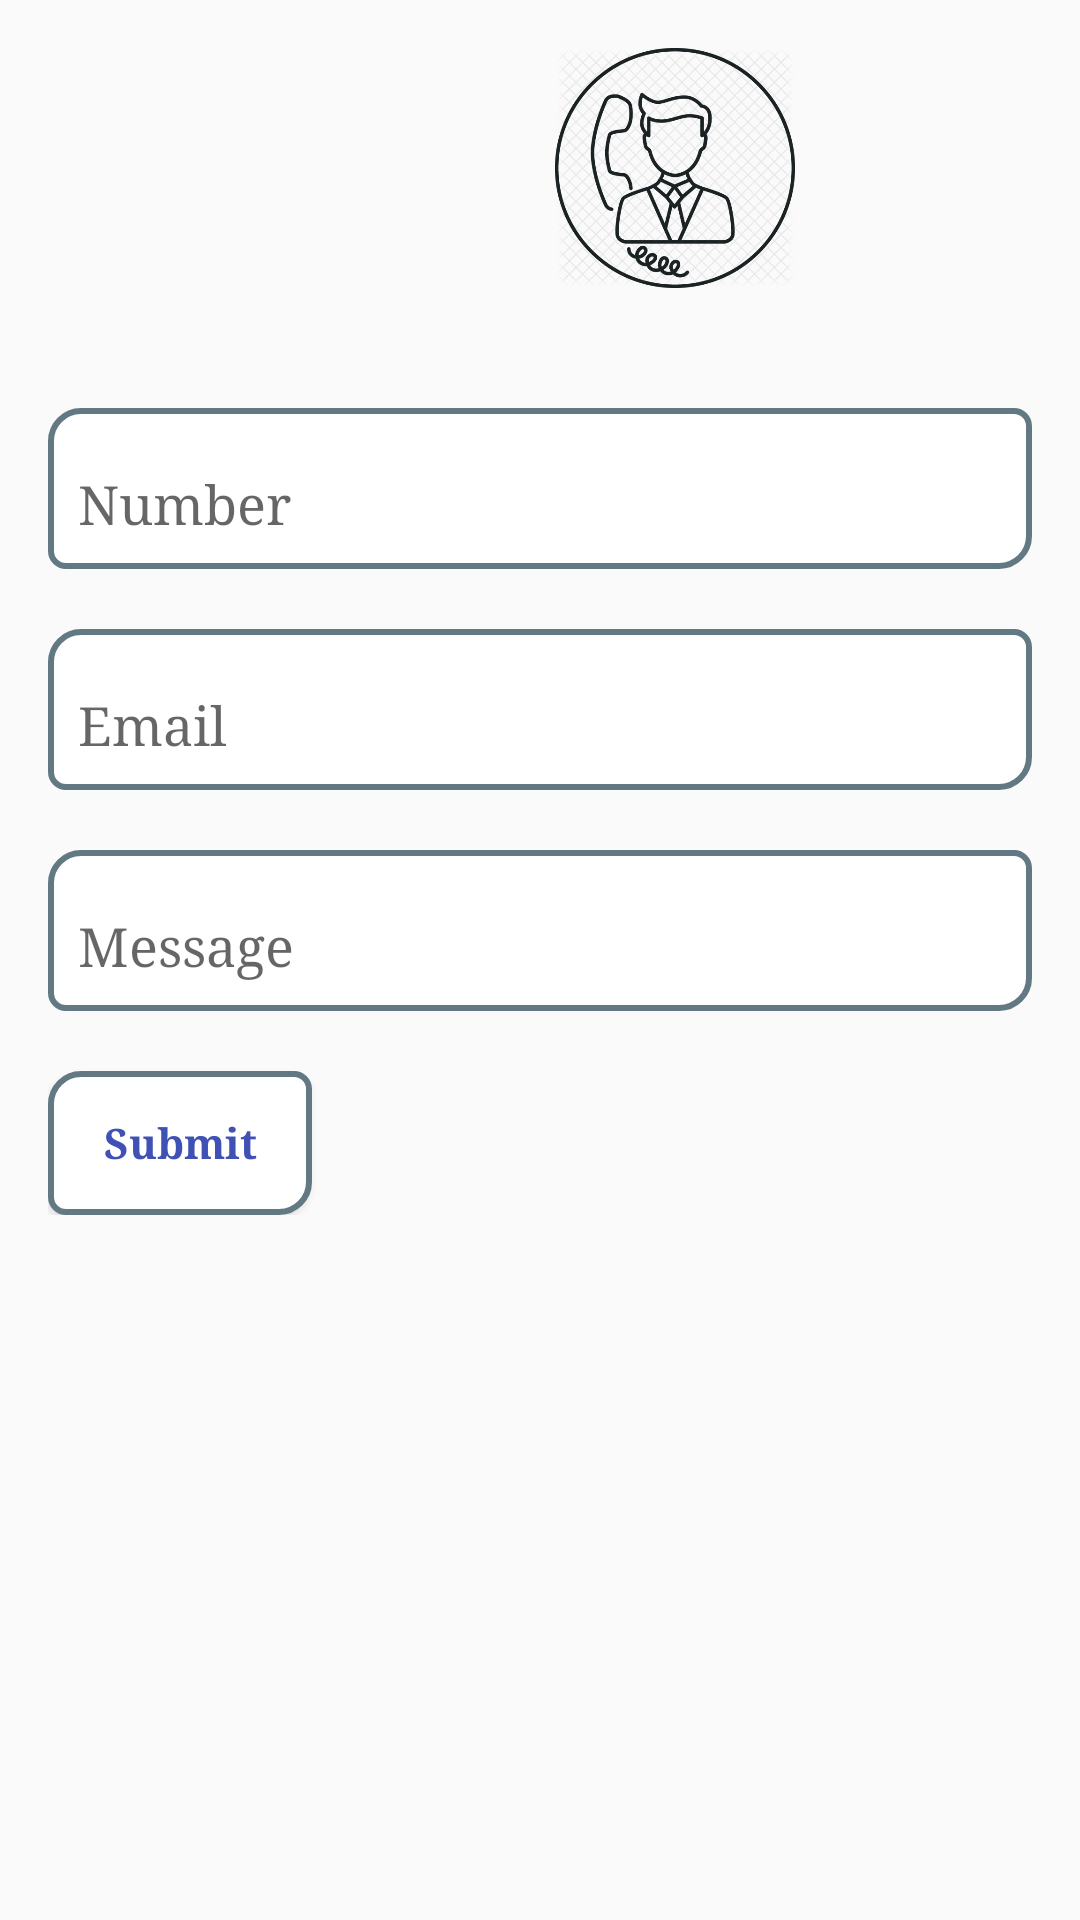

Point at icon controls on the screen. Image size 1080px×1920px, points as (x,y).
phone: (675,168)
